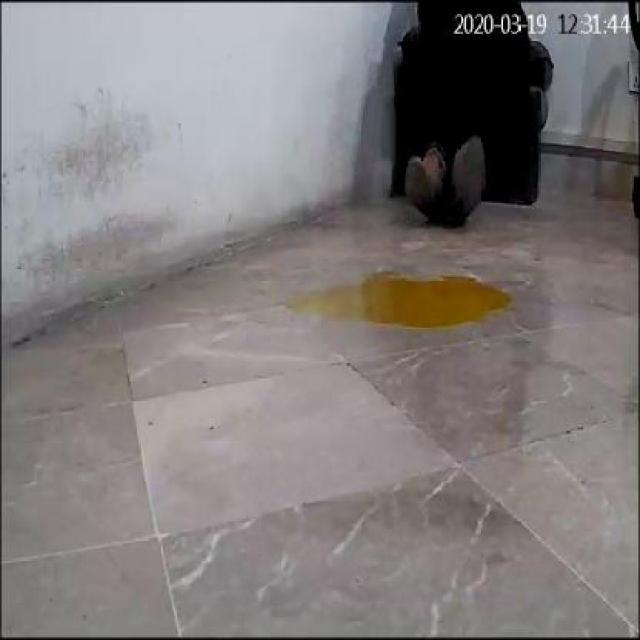spill: (286, 271, 512, 334)
